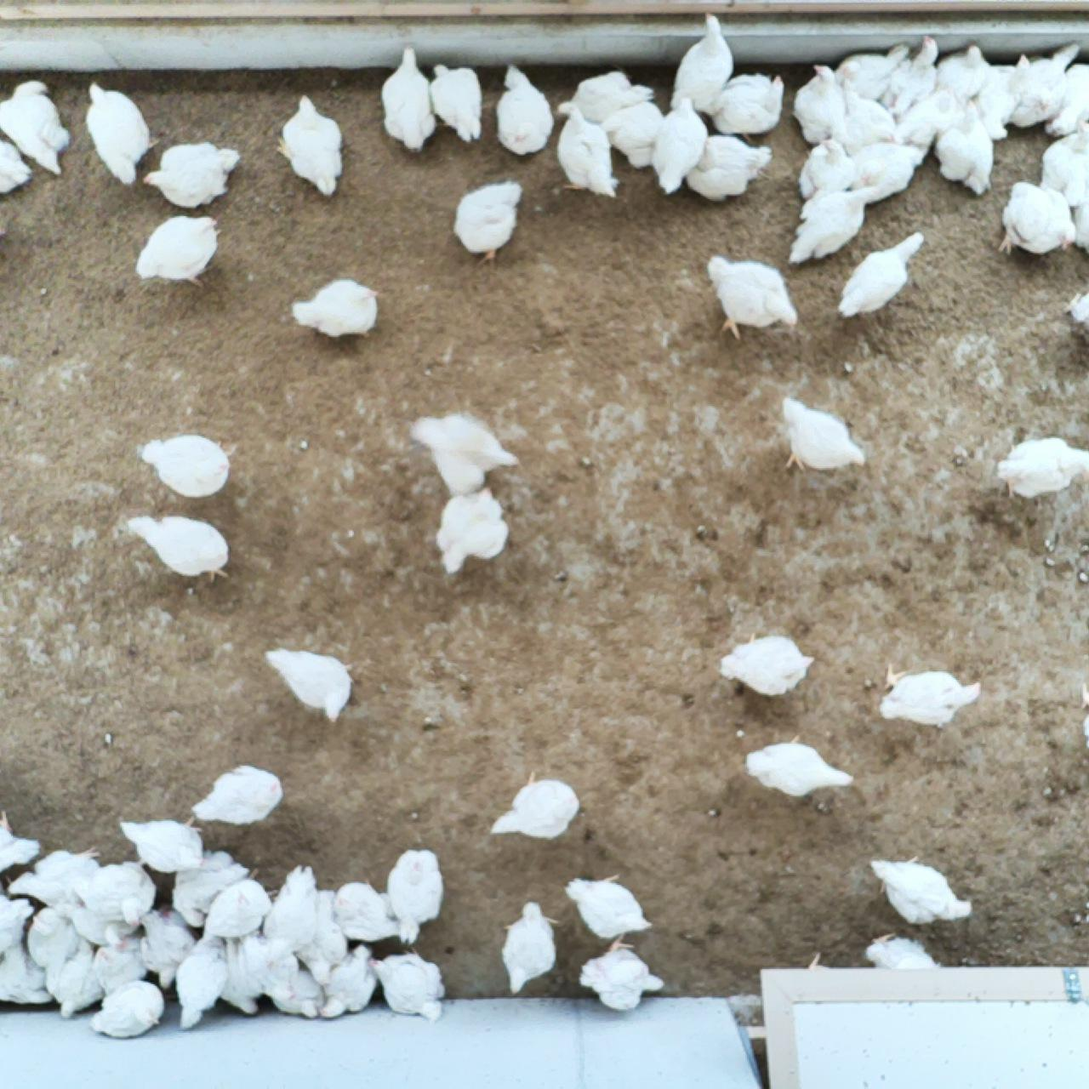chicken: (787, 177, 888, 268), (739, 728, 852, 805), (835, 228, 927, 319), (406, 409, 513, 486), (867, 856, 975, 930), (82, 80, 158, 185), (128, 506, 234, 581), (427, 479, 509, 575), (709, 253, 798, 339), (273, 92, 345, 198), (258, 645, 352, 725), (874, 661, 982, 730), (141, 141, 244, 213), (777, 393, 868, 474), (675, 130, 774, 204), (171, 849, 259, 929), (0, 77, 68, 180), (1002, 41, 1080, 129), (579, 934, 667, 1012), (135, 214, 222, 292), (672, 9, 736, 114), (489, 771, 585, 841), (555, 98, 622, 198), (650, 96, 714, 198), (720, 627, 814, 696), (9, 847, 105, 914), (996, 433, 1089, 502), (380, 40, 437, 152), (143, 431, 234, 500), (288, 275, 381, 342), (67, 858, 156, 928), (497, 898, 562, 993), (189, 763, 280, 830), (1000, 177, 1074, 259), (453, 181, 523, 267), (171, 931, 230, 1032), (366, 951, 449, 1022), (561, 874, 653, 938), (264, 861, 320, 963), (709, 71, 787, 144), (495, 62, 552, 160), (388, 849, 445, 944), (600, 96, 669, 173), (793, 60, 850, 149), (201, 869, 272, 940), (837, 68, 898, 150), (879, 35, 939, 118), (830, 41, 909, 104), (88, 979, 167, 1042), (428, 59, 487, 139), (567, 71, 657, 123), (973, 55, 1028, 140), (845, 141, 928, 197), (321, 941, 378, 1021), (117, 819, 208, 869), (333, 881, 402, 946), (891, 85, 955, 155), (864, 932, 944, 988), (136, 911, 191, 991), (48, 941, 104, 1019), (91, 924, 144, 1004), (60, 899, 138, 953), (798, 136, 859, 204), (256, 958, 323, 1019), (238, 932, 296, 1001), (1037, 136, 1089, 211), (1041, 58, 1089, 139), (210, 942, 262, 1016), (28, 901, 80, 974), (935, 42, 991, 108), (959, 99, 996, 194), (0, 945, 51, 1006), (0, 811, 40, 877), (938, 116, 971, 185), (0, 885, 30, 959), (0, 139, 33, 194), (1067, 287, 1089, 334)
